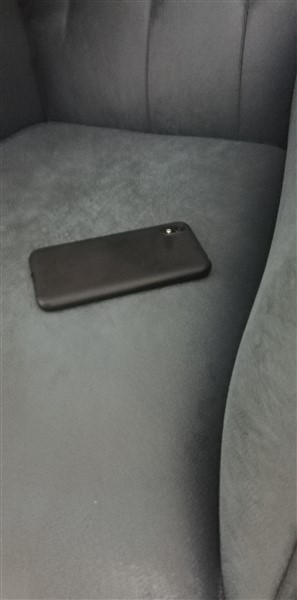telefon: (24, 218, 217, 314)
